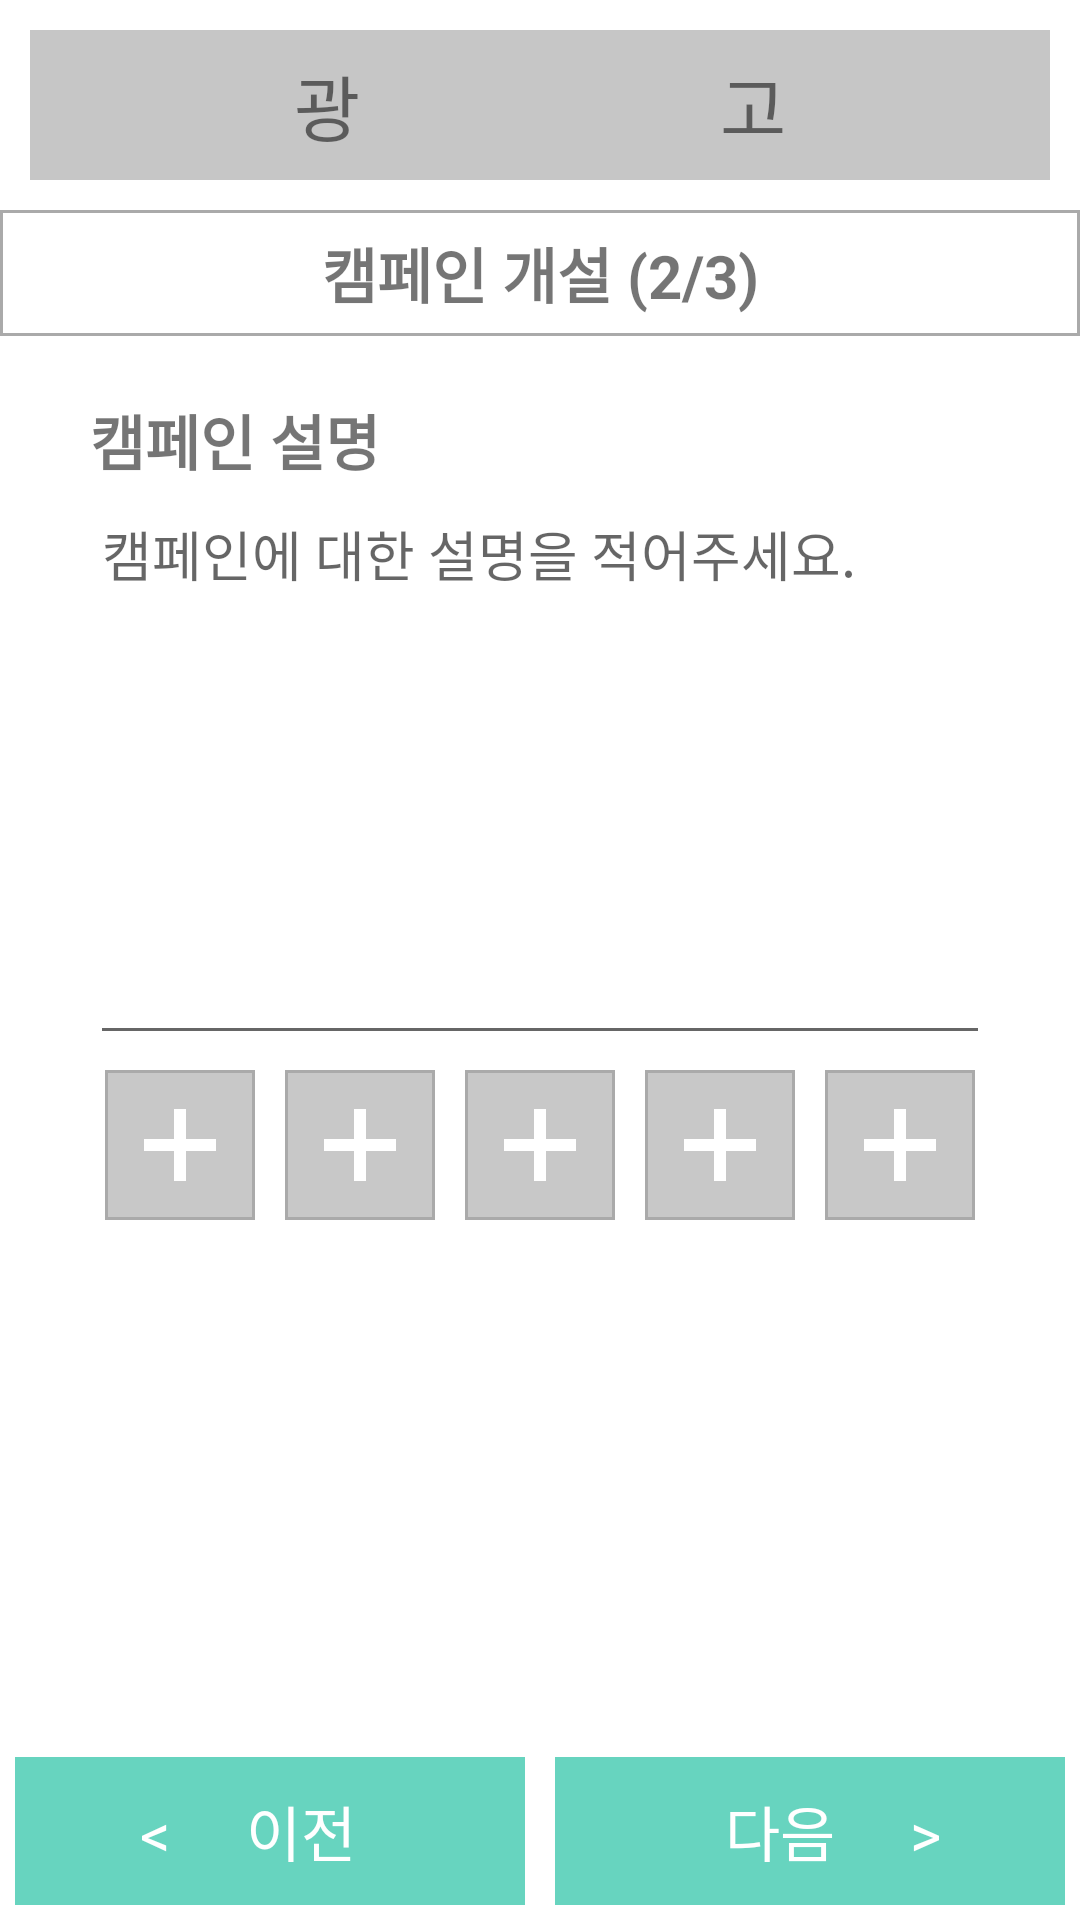

Screen size 1080*1920. Icon name, then its center in pixels as (x,y):
add: (180,1145), (360,1145), (540,1145), (720,1145), (900,1145)
